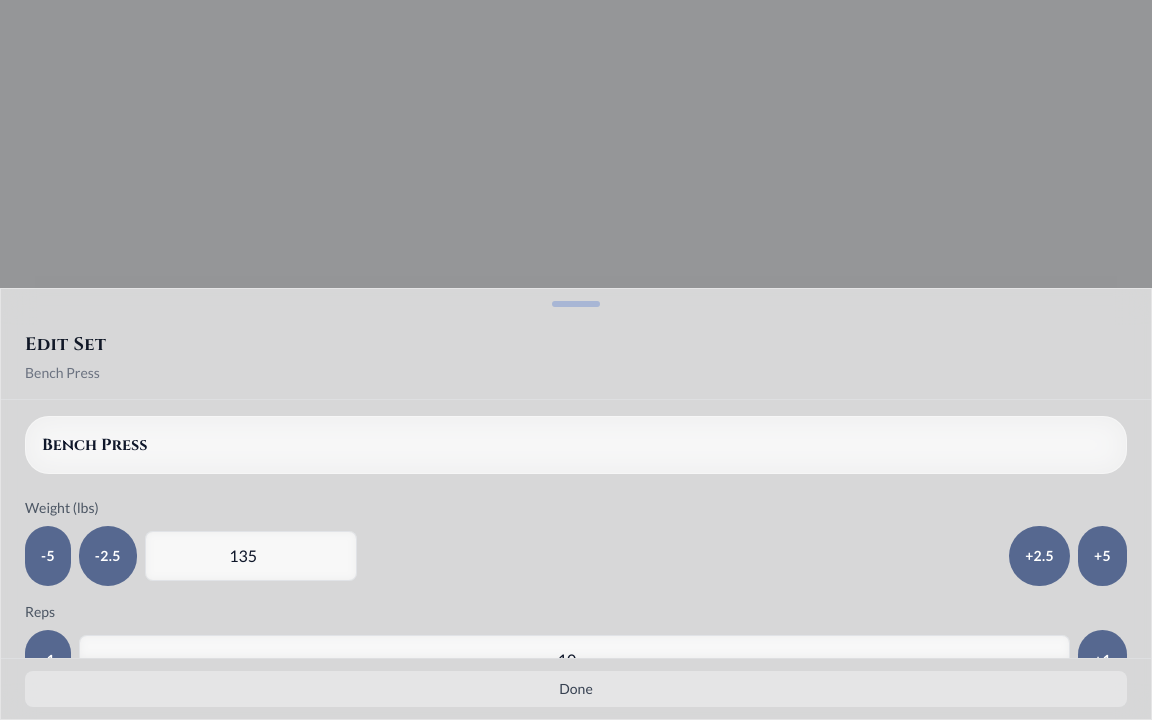
Test: SetEditModal › increments weight when +2.5 button is clicked
Click the button "+2.5": click(1040, 556) [1009,526,1070,586]
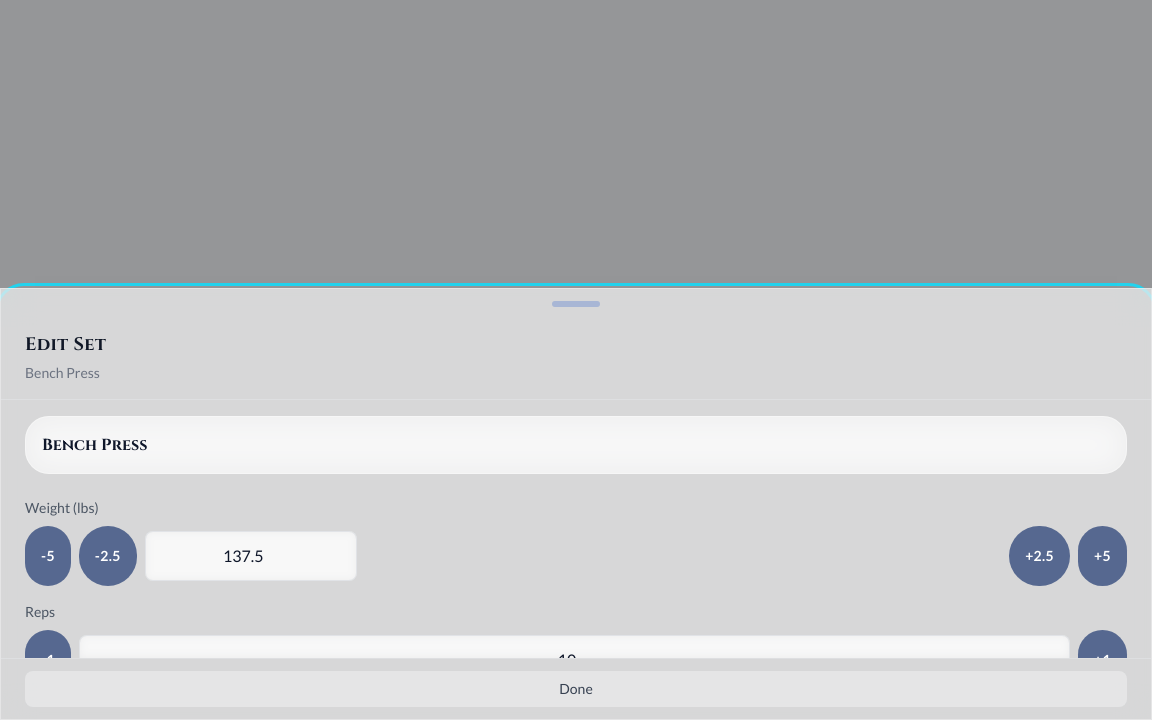
Check: the number field showing "137.5" is shown, box [145,531,357,581]
